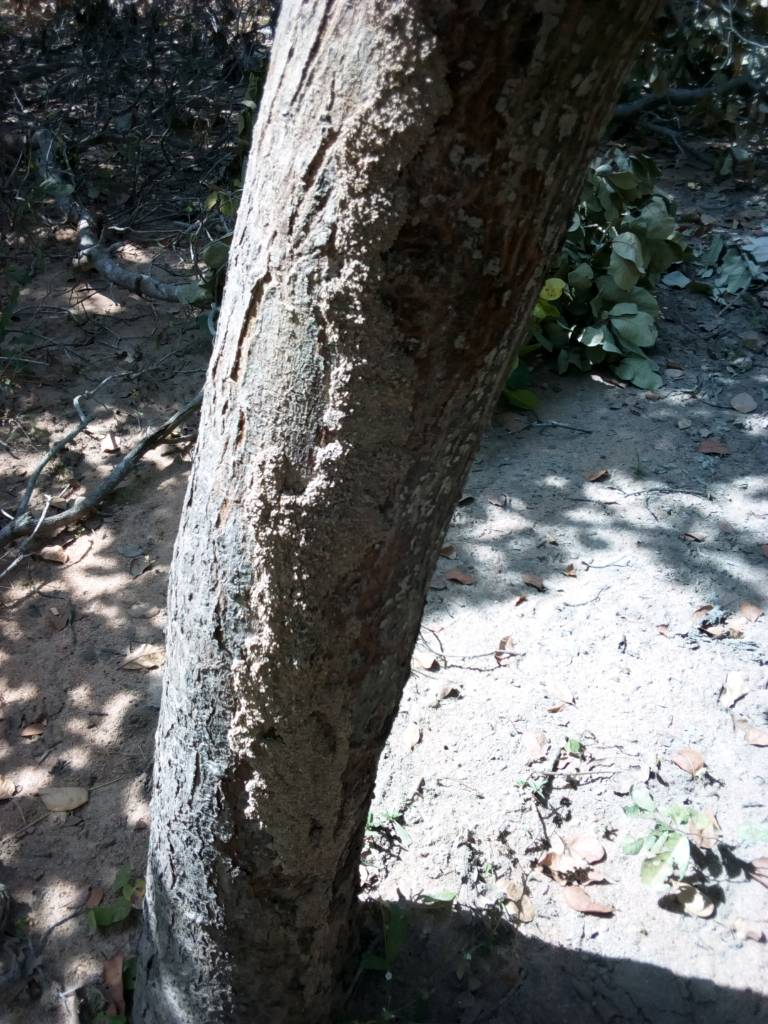Termites: (219, 86, 477, 880)
